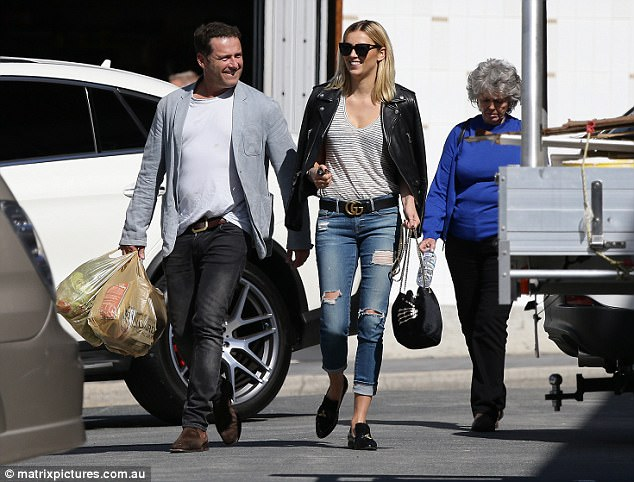Person: (120, 22, 299, 453), (296, 20, 427, 452), (426, 58, 521, 431)
